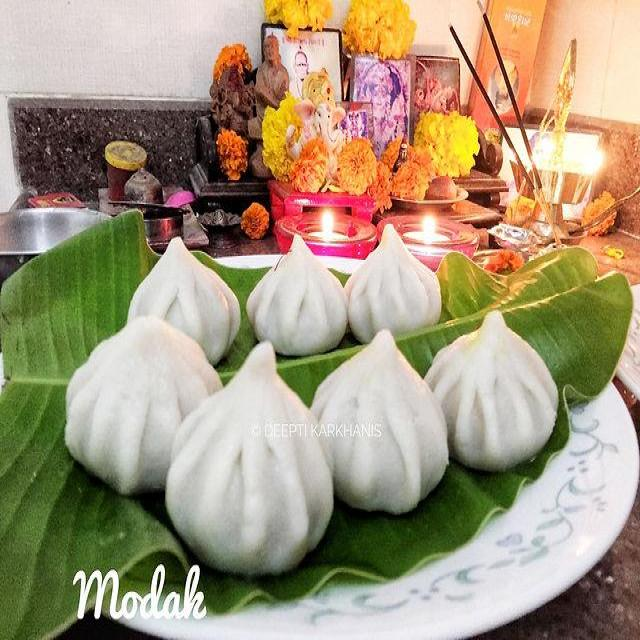modak: (165, 340, 335, 578), (63, 318, 225, 502), (308, 327, 452, 515), (425, 310, 562, 470), (127, 237, 241, 366), (244, 234, 347, 354), (349, 226, 443, 346)
